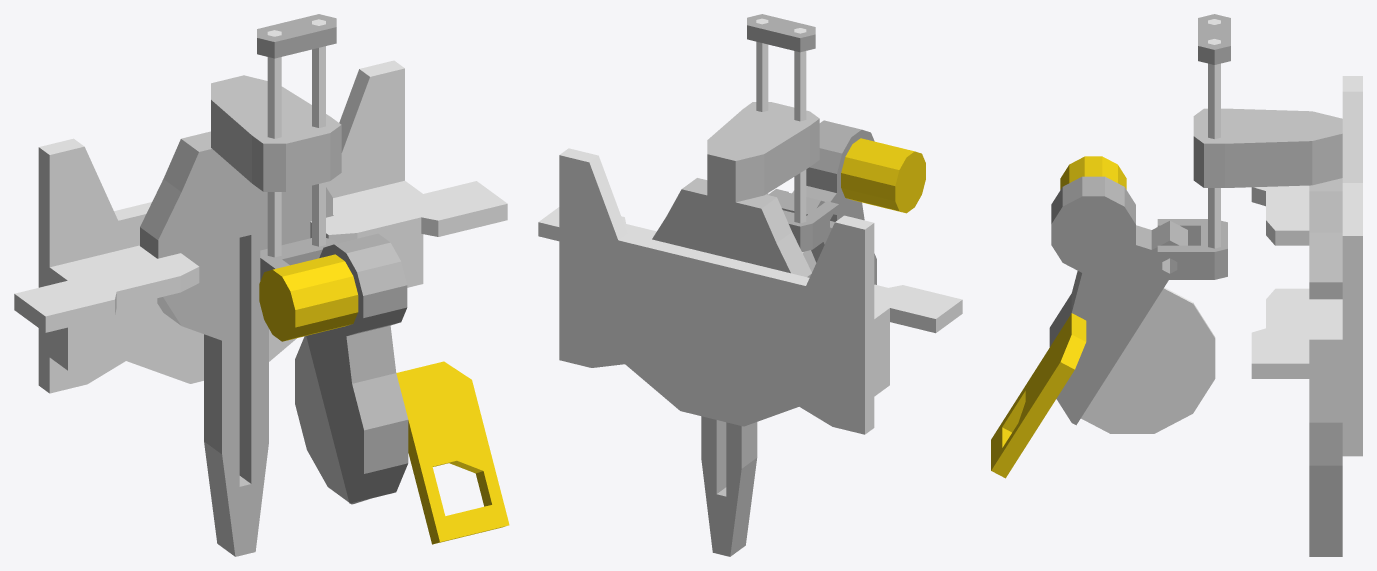
The model's file is miterSaw-1U3792Wh.gltf.
3 views of the same model, side by side, from view 1: azimuth 30°, elevation 25°; view 2: azimuth 150°, elevation 25°; view 3: azimuth 270°, elevation 25° (orthographic). The views are drawn at different scales.
Visible parts, largest first — view 1: Part 1, Part 2, Part 6, Part 9, Part 8, Part 10, Part 4, Part 3, Part 7, Part 5; view 2: Part 1, Part 2, Part 8, Part 6, Part 4, Part 5, Part 3, Part 7; view 3: Part 1, Part 2, Part 6, Part 10, Part 9, Part 5, Part 7, Part 4, Part 8.
Boxes of the visible parts, bbox=[...] form: Part 1: bbox=[14, 60, 507, 393]; Part 2: bbox=[140, 75, 341, 556]; Part 6: bbox=[306, 233, 408, 503]; Part 9: bbox=[396, 361, 509, 544]; Part 8: bbox=[259, 254, 358, 341]; Part 10: bbox=[295, 336, 371, 504]; Part 4: bbox=[257, 14, 336, 58]; Part 3: bbox=[267, 30, 281, 257]; Part 7: bbox=[312, 19, 325, 246]; Part 5: bbox=[260, 238, 337, 280]; Part 1: bbox=[538, 148, 962, 434]; Part 2: bbox=[652, 102, 819, 556]; Part 8: bbox=[841, 138, 925, 213]; Part 6: bbox=[778, 120, 876, 284]; Part 4: bbox=[747, 14, 815, 52]; Part 5: bbox=[768, 189, 839, 251]; Part 3: bbox=[794, 28, 806, 223]; Part 7: bbox=[756, 18, 768, 194]; Part 1: bbox=[1251, 76, 1362, 456]; Part 2: bbox=[1193, 108, 1342, 556]; Part 6: bbox=[1049, 176, 1187, 425]; Part 10: bbox=[1081, 287, 1215, 433]; Part 9: bbox=[991, 313, 1086, 478]; Part 5: bbox=[1157, 219, 1227, 279]; Part 7: bbox=[1208, 39, 1220, 248]; Part 4: bbox=[1198, 14, 1230, 64]; Part 8: bbox=[1060, 156, 1126, 189].
Bounding box in the file's own units: 0.7345 × 0.8563 × 0.5542.
